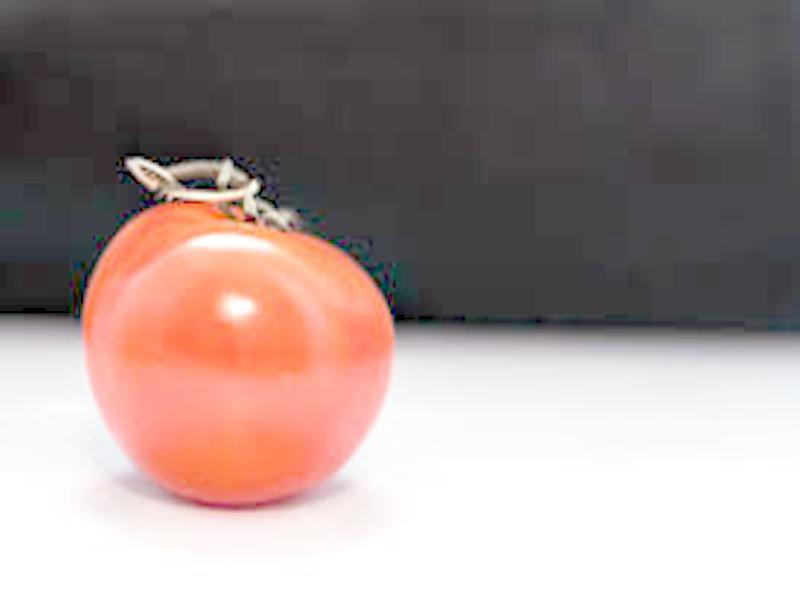Tomato: (81, 200, 396, 505)
